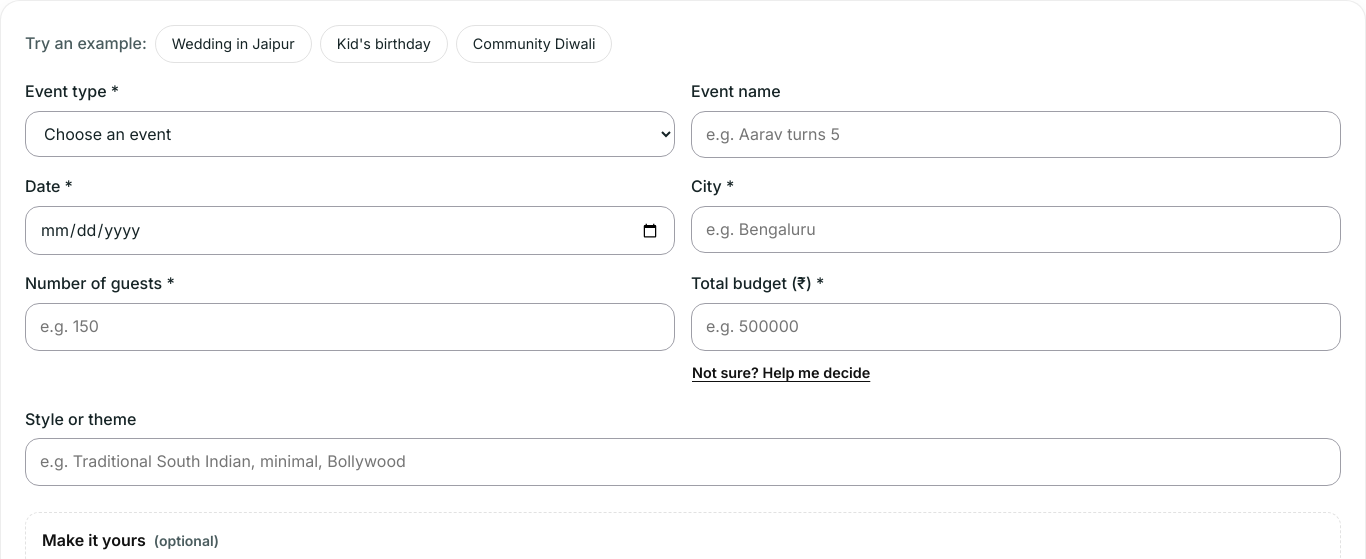
Test: Not sure? Help me decide › marks the chosen level when reopened
Select "Wedding" in the dropdown labelled "Event type *" at (350, 134), box [25, 111, 675, 157]
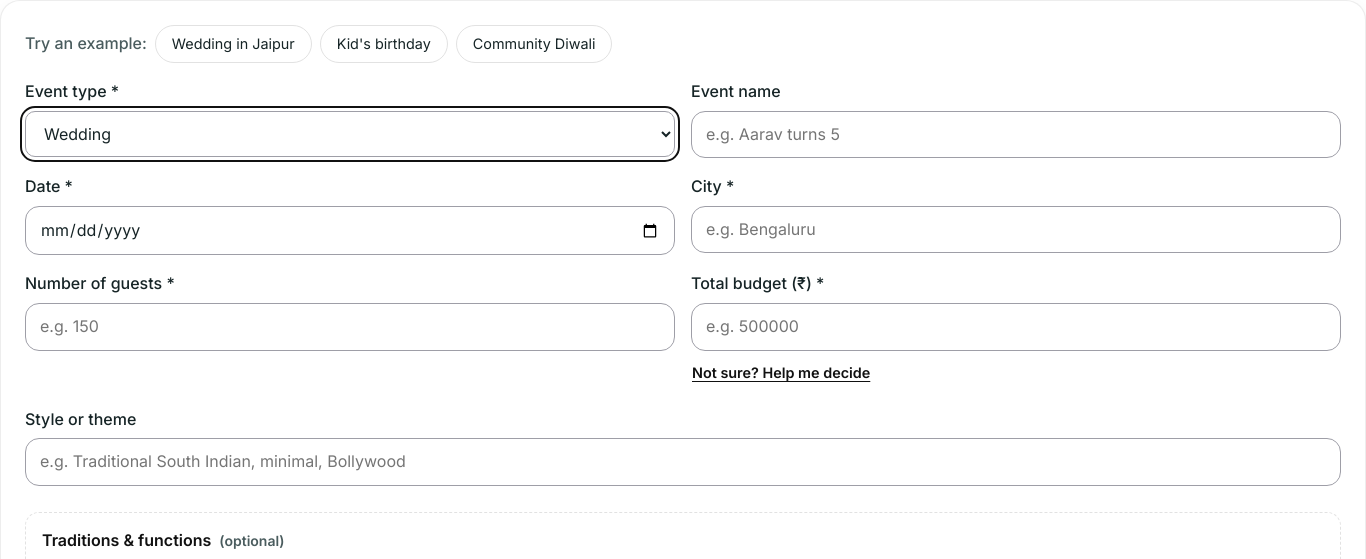
Type "200" into the number field labelled "Number of guests *" at (350, 327), box [25, 303, 675, 351]
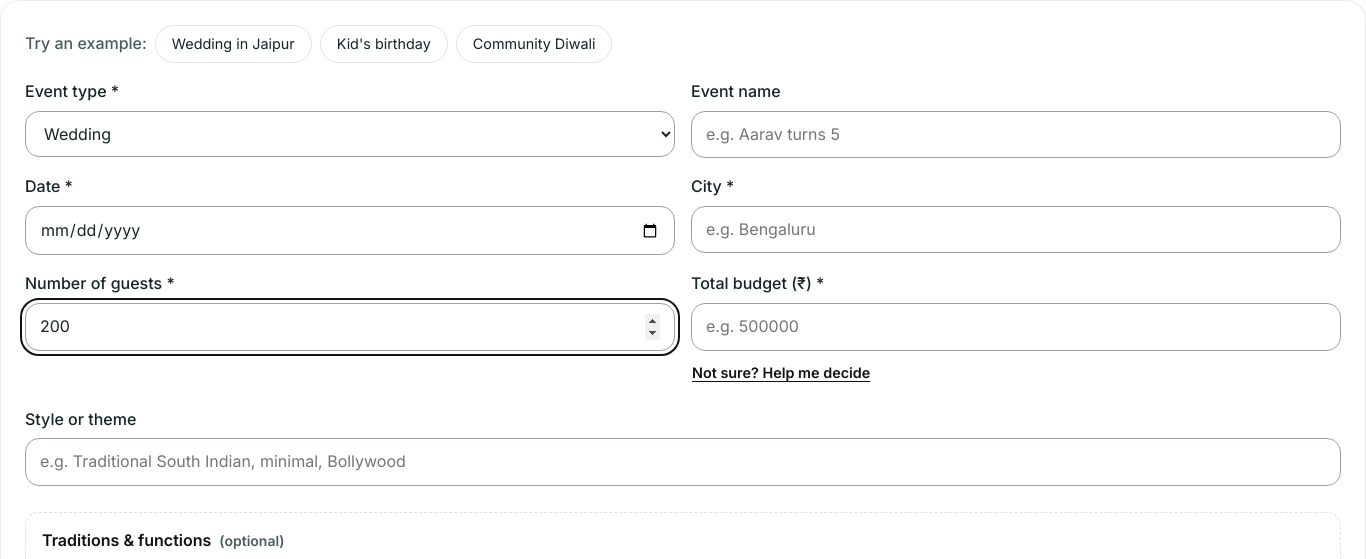
Click the button "Not sure? Help me decide" at (781, 373), box [691, 355, 871, 391]
(page scrolled)
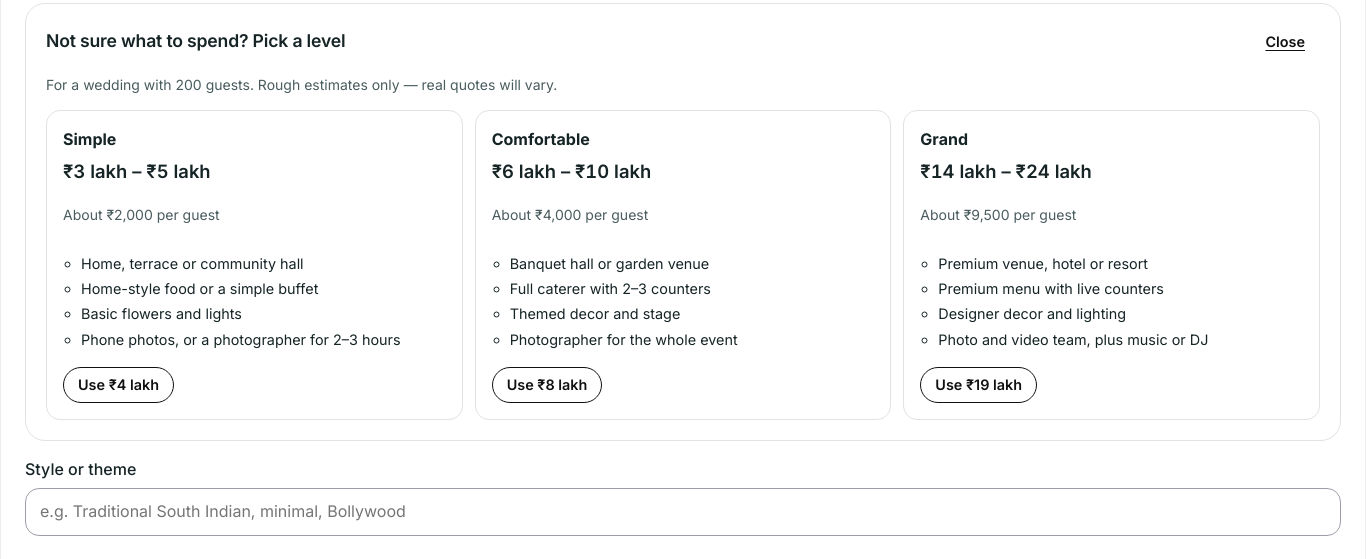
Click the button "Use ₹4 lakh" at (118, 385), box [63, 367, 174, 403]
(page scrolled)
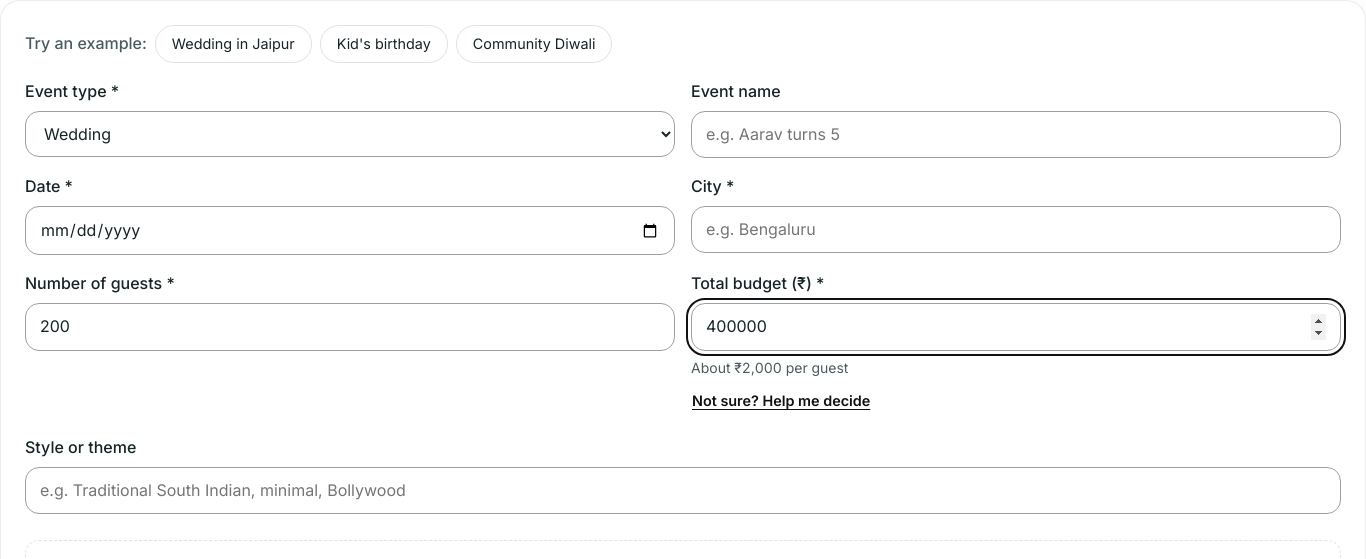
Click the button "Not sure? Help me decide" at (781, 401), box [691, 383, 871, 419]
(page scrolled)
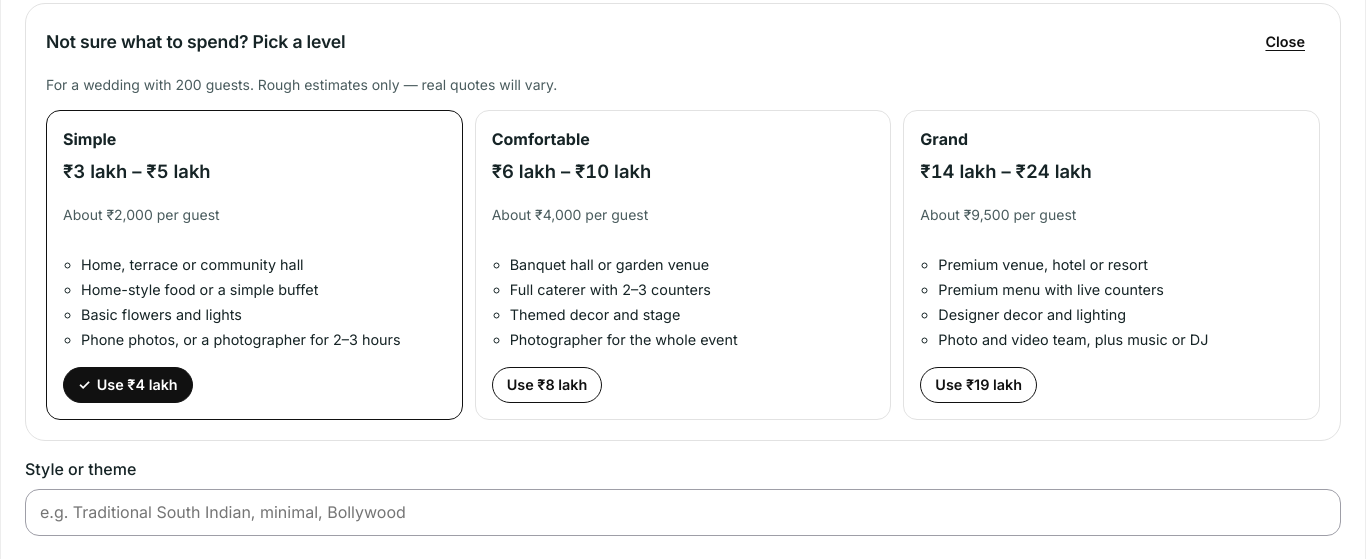
Expected: the button "✓ Use ₹4 lakh" is pressed, [63, 367, 193, 403]
